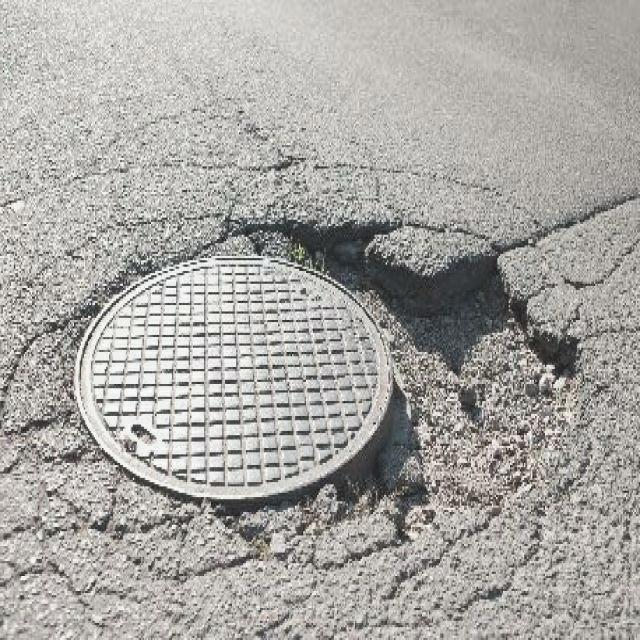Pothole: (268, 205, 588, 535)
